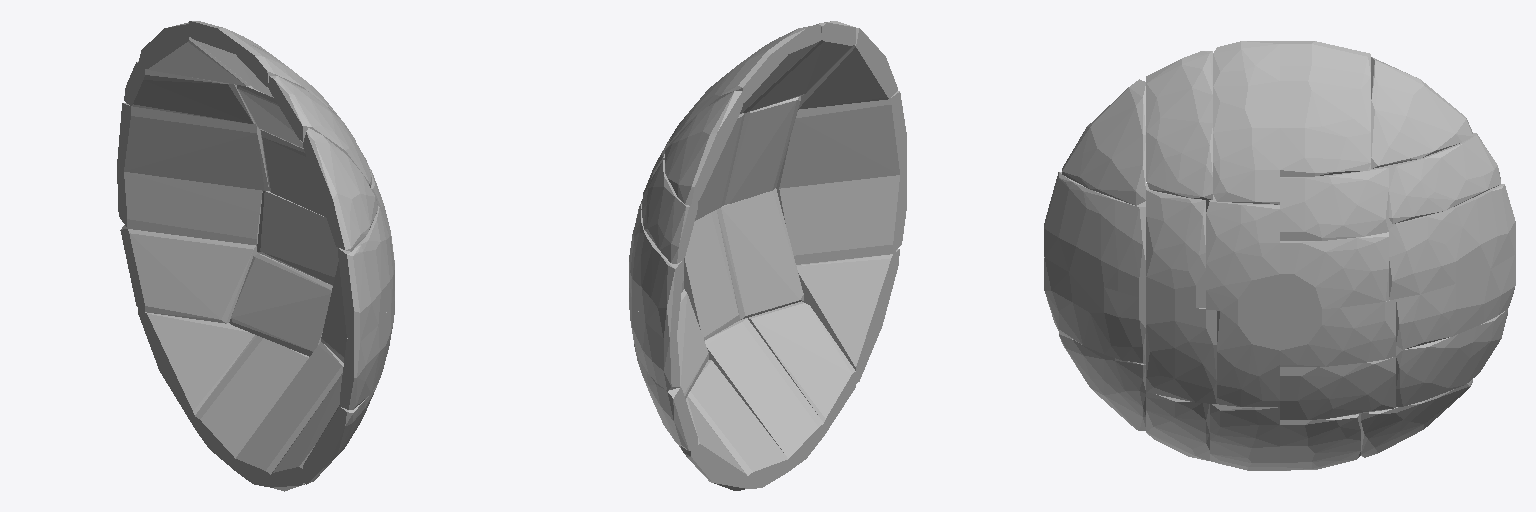
--- Facts derived from the render (not from the file) ---
The picture shows the robot from 3 angles, left to right: view 1: azimuth 30°, elevation 25°; view 2: azimuth 150°, elevation 25°; view 3: azimuth 270°, elevation 25°; orthographic projection.
Model root with 24 links and 23 joints (23 fixed), rooted at link_4845731dbf7522b07492cbf7d8bec255_convex_piece_0, posed every joint at zero.
Visible links, largest first — view 1: link_4845731dbf7522b07492cbf7d8bec255_convex_piece_22, link_4845731dbf7522b07492cbf7d8bec255_convex_piece_18, link_4845731dbf7522b07492cbf7d8bec255_convex_piece_19, link_4845731dbf7522b07492cbf7d8bec255_convex_piece_4, link_4845731dbf7522b07492cbf7d8bec255_convex_piece_5, link_4845731dbf7522b07492cbf7d8bec255_convex_piece_16, link_4845731dbf7522b07492cbf7d8bec255_convex_piece_9, link_4845731dbf7522b07492cbf7d8bec255_convex_piece_3, link_4845731dbf7522b07492cbf7d8bec255_convex_piece_2, link_4845731dbf7522b07492cbf7d8bec255_convex_piece_17, link_4845731dbf7522b07492cbf7d8bec255_convex_piece_23, link_4845731dbf7522b07492cbf7d8bec255_convex_piece_14 (+9 smaller); view 2: link_4845731dbf7522b07492cbf7d8bec255_convex_piece_1, link_4845731dbf7522b07492cbf7d8bec255_convex_piece_2, link_4845731dbf7522b07492cbf7d8bec255_convex_piece_9, link_4845731dbf7522b07492cbf7d8bec255_convex_piece_10, link_4845731dbf7522b07492cbf7d8bec255_convex_piece_0, link_4845731dbf7522b07492cbf7d8bec255_convex_piece_8, link_4845731dbf7522b07492cbf7d8bec255_convex_piece_4, link_4845731dbf7522b07492cbf7d8bec255_convex_piece_11, link_4845731dbf7522b07492cbf7d8bec255_convex_piece_12, link_4845731dbf7522b07492cbf7d8bec255_convex_piece_7, link_4845731dbf7522b07492cbf7d8bec255_convex_piece_22, link_4845731dbf7522b07492cbf7d8bec255_convex_piece_3 (+9 smaller); view 3: link_4845731dbf7522b07492cbf7d8bec255_convex_piece_6, link_4845731dbf7522b07492cbf7d8bec255_convex_piece_15, link_4845731dbf7522b07492cbf7d8bec255_convex_piece_22, link_4845731dbf7522b07492cbf7d8bec255_convex_piece_2, link_4845731dbf7522b07492cbf7d8bec255_convex_piece_14, link_4845731dbf7522b07492cbf7d8bec255_convex_piece_13, link_4845731dbf7522b07492cbf7d8bec255_convex_piece_20, link_4845731dbf7522b07492cbf7d8bec255_convex_piece_7, link_4845731dbf7522b07492cbf7d8bec255_convex_piece_21, link_4845731dbf7522b07492cbf7d8bec255_convex_piece_17, link_4845731dbf7522b07492cbf7d8bec255_convex_piece_10, link_4845731dbf7522b07492cbf7d8bec255_convex_piece_3 (+12 smaller).
Link boxes in pixels (left/top/right/bottom): link_4845731dbf7522b07492cbf7d8bec255_convex_piece_22: left=117, top=103, right=268, bottom=190; link_4845731dbf7522b07492cbf7d8bec255_convex_piece_18: left=120, top=225, right=258, bottom=323; link_4845731dbf7522b07492cbf7d8bec255_convex_piece_19: left=117, top=167, right=262, bottom=245; link_4845731dbf7522b07492cbf7d8bec255_convex_piece_4: left=195, top=336, right=308, bottom=470; link_4845731dbf7522b07492cbf7d8bec255_convex_piece_5: left=138, top=307, right=256, bottom=427; link_4845731dbf7522b07492cbf7d8bec255_convex_piece_16: left=229, top=253, right=332, bottom=356; link_4845731dbf7522b07492cbf7d8bec255_convex_piece_9: left=235, top=342, right=343, bottom=487; link_4845731dbf7522b07492cbf7d8bec255_convex_piece_3: left=303, top=128, right=377, bottom=251; link_4845731dbf7522b07492cbf7d8bec255_convex_piece_2: left=338, top=206, right=394, bottom=342; link_4845731dbf7522b07492cbf7d8bec255_convex_piece_17: left=257, top=191, right=338, bottom=285; link_4845731dbf7522b07492cbf7d8bec255_convex_piece_23: left=124, top=61, right=254, bottom=123; link_4845731dbf7522b07492cbf7d8bec255_convex_piece_14: left=269, top=76, right=371, bottom=187; link_4845731dbf7522b07492cbf7d8bec255_convex_piece_1: left=776, top=170, right=906, bottom=264; link_4845731dbf7522b07492cbf7d8bec255_convex_piece_2: left=776, top=91, right=906, bottom=188; link_4845731dbf7522b07492cbf7d8bec255_convex_piece_9: left=705, top=318, right=823, bottom=470; link_4845731dbf7522b07492cbf7d8bec255_convex_piece_10: left=717, top=188, right=803, bottom=319; link_4845731dbf7522b07492cbf7d8bec255_convex_piece_0: left=796, top=249, right=899, bottom=383; link_4845731dbf7522b07492cbf7d8bec255_convex_piece_8: left=748, top=301, right=855, bottom=435; link_4845731dbf7522b07492cbf7d8bec255_convex_piece_4: left=688, top=360, right=788, bottom=488; link_4845731dbf7522b07492cbf7d8bec255_convex_piece_11: left=684, top=210, right=740, bottom=340; link_4845731dbf7522b07492cbf7d8bec255_convex_piece_12: left=725, top=96, right=800, bottom=204; link_4845731dbf7522b07492cbf7d8bec255_convex_piece_7: left=665, top=91, right=742, bottom=205; link_4845731dbf7522b07492cbf7d8bec255_convex_piece_22: left=629, top=204, right=683, bottom=339; link_4845731dbf7522b07492cbf7d8bec255_convex_piece_3: left=798, top=28, right=897, bottom=109; link_4845731dbf7522b07492cbf7d8bec255_convex_piece_6: left=1280, top=41, right=1370, bottom=176; link_4845731dbf7522b07492cbf7d8bec255_convex_piece_15: left=1213, top=41, right=1279, bottom=204; link_4845731dbf7522b07492cbf7d8bec255_convex_piece_22: left=1389, top=184, right=1515, bottom=299; link_4845731dbf7522b07492cbf7d8bec255_convex_piece_2: left=1044, top=172, right=1145, bottom=297; link_4845731dbf7522b07492cbf7d8bec255_convex_piece_14: left=1146, top=51, right=1212, bottom=199; link_4845731dbf7522b07492cbf7d8bec255_convex_piece_13: left=1206, top=195, right=1279, bottom=311; link_4845731dbf7522b07492cbf7d8bec255_convex_piece_20: left=1280, top=232, right=1388, bottom=308; link_4845731dbf7522b07492cbf7d8bec255_convex_piece_7: left=1371, top=57, right=1472, bottom=168; link_4845731dbf7522b07492cbf7d8bec255_convex_piece_21: left=1280, top=165, right=1388, bottom=240; link_4845731dbf7522b07492cbf7d8bec255_convex_piece_17: left=1280, top=299, right=1395, bottom=366; link_4845731dbf7522b07492cbf7d8bec255_convex_piece_10: left=1146, top=299, right=1216, bottom=403; link_4845731dbf7522b07492cbf7d8bec255_convex_piece_3: left=1062, top=79, right=1145, bottom=205.
Bounding box of the posed robot: 0.0132 × 0.0453 × 0.0453 m (x, y, z).
Meshes: 24 distinct files referenced, 24 mesh visuals loaded (24 OBJ).

URDF robot description (root):
<robot name="root">
  <link name="link_4845731dbf7522b07492cbf7d8bec255_convex_piece_0">
    <inertial>
      <origin rpy="0 0 0" xyz="0 0 0"/>
      <mass value="5.84E-08"/>
      <inertia ixx="2.31E-11" ixy="3.52E-12" ixz="2.63E-12" iyy="9.28E-12" iyz="1.06E-11" izz="1.58E-11"/>
    </inertial>
    <visual>
      <origin rpy="0 0 0" xyz="0 0 0"/>
      <geometry>
        <mesh filename="4845731dbf7522b07492cbf7d8bec255_convex_piece_0.obj" scale="1.0000E+00"/>
      </geometry>
      <material name="">
        <color rgba="7.50E-01 7.50E-01 7.50E-01 1"/>
      </material>
    </visual>
    <collision>
      <origin rpy="0 0 0" xyz="0 0 0"/>
      <geometry>
        <mesh filename="4845731dbf7522b07492cbf7d8bec255_convex_piece_0.obj" scale="1.0000E+00"/>
      </geometry>
    </collision>
  </link>
  <link name="link_4845731dbf7522b07492cbf7d8bec255_convex_piece_1">
    <inertial>
      <origin rpy="0 0 0" xyz="0 0 0"/>
      <mass value="7.40E-08"/>
      <inertia ixx="2.45E-11" ixy="3.02E-12" ixz="5.98E-13" iyy="2.17E-12" iyz="4.90E-12" izz="2.39E-11"/>
    </inertial>
    <visual>
      <origin rpy="0 0 0" xyz="0 0 0"/>
      <geometry>
        <mesh filename="4845731dbf7522b07492cbf7d8bec255_convex_piece_1.obj" scale="1.0000E+00"/>
      </geometry>
      <material name="">
        <color rgba="7.50E-01 7.50E-01 7.50E-01 1"/>
      </material>
    </visual>
    <collision>
      <origin rpy="0 0 0" xyz="0 0 0"/>
      <geometry>
        <mesh filename="4845731dbf7522b07492cbf7d8bec255_convex_piece_1.obj" scale="1.0000E+00"/>
      </geometry>
    </collision>
  </link>
  <joint name="link_4845731dbf7522b07492cbf7d8bec255_convex_piece_1_joint" type="fixed">
    <origin rpy="0 0 0" xyz="0 0 0"/>
    <parent link="link_4845731dbf7522b07492cbf7d8bec255_convex_piece_0"/>
    <child link="link_4845731dbf7522b07492cbf7d8bec255_convex_piece_1"/>
  </joint>
  <link name="link_4845731dbf7522b07492cbf7d8bec255_convex_piece_2">
    <inertial>
      <origin rpy="0 0 0" xyz="0 0 0"/>
      <mass value="8.35E-08"/>
      <inertia ixx="2.80E-11" ixy="3.51E-12" ixz="-7.99E-13" iyy="2.89E-12" iyz="-6.17E-12" izz="2.68E-11"/>
    </inertial>
    <visual>
      <origin rpy="0 0 0" xyz="0 0 0"/>
      <geometry>
        <mesh filename="4845731dbf7522b07492cbf7d8bec255_convex_piece_2.obj" scale="1.0000E+00"/>
      </geometry>
      <material name="">
        <color rgba="7.50E-01 7.50E-01 7.50E-01 1"/>
      </material>
    </visual>
    <collision>
      <origin rpy="0 0 0" xyz="0 0 0"/>
      <geometry>
        <mesh filename="4845731dbf7522b07492cbf7d8bec255_convex_piece_2.obj" scale="1.0000E+00"/>
      </geometry>
    </collision>
  </link>
  <joint name="link_4845731dbf7522b07492cbf7d8bec255_convex_piece_2_joint" type="fixed">
    <origin rpy="0 0 0" xyz="0 0 0"/>
    <parent link="link_4845731dbf7522b07492cbf7d8bec255_convex_piece_1"/>
    <child link="link_4845731dbf7522b07492cbf7d8bec255_convex_piece_2"/>
  </joint>
  <link name="link_4845731dbf7522b07492cbf7d8bec255_convex_piece_3">
    <inertial>
      <origin rpy="0 0 0" xyz="0 0 0"/>
      <mass value="4.83E-08"/>
      <inertia ixx="1.95E-11" ixy="3.01E-12" ixz="-2.38E-12" iyy="8.39E-12" iyz="-9.19E-12" izz="1.29E-11"/>
    </inertial>
    <visual>
      <origin rpy="0 0 0" xyz="0 0 0"/>
      <geometry>
        <mesh filename="4845731dbf7522b07492cbf7d8bec255_convex_piece_3.obj" scale="1.0000E+00"/>
      </geometry>
      <material name="">
        <color rgba="7.50E-01 7.50E-01 7.50E-01 1"/>
      </material>
    </visual>
    <collision>
      <origin rpy="0 0 0" xyz="0 0 0"/>
      <geometry>
        <mesh filename="4845731dbf7522b07492cbf7d8bec255_convex_piece_3.obj" scale="1.0000E+00"/>
      </geometry>
    </collision>
  </link>
  <joint name="link_4845731dbf7522b07492cbf7d8bec255_convex_piece_3_joint" type="fixed">
    <origin rpy="0 0 0" xyz="0 0 0"/>
    <parent link="link_4845731dbf7522b07492cbf7d8bec255_convex_piece_2"/>
    <child link="link_4845731dbf7522b07492cbf7d8bec255_convex_piece_3"/>
  </joint>
  <link name="link_4845731dbf7522b07492cbf7d8bec255_convex_piece_4">
    <inertial>
      <origin rpy="0 0 0" xyz="0 0 0"/>
      <mass value="7.40E-08"/>
      <inertia ixx="2.46E-11" ixy="-5.97E-13" ixz="3.02E-12" iyy="2.39E-11" iyz="-4.90E-12" izz="2.17E-12"/>
    </inertial>
    <visual>
      <origin rpy="0 0 0" xyz="0 0 0"/>
      <geometry>
        <mesh filename="4845731dbf7522b07492cbf7d8bec255_convex_piece_4.obj" scale="1.0000E+00"/>
      </geometry>
      <material name="">
        <color rgba="7.50E-01 7.50E-01 7.50E-01 1"/>
      </material>
    </visual>
    <collision>
      <origin rpy="0 0 0" xyz="0 0 0"/>
      <geometry>
        <mesh filename="4845731dbf7522b07492cbf7d8bec255_convex_piece_4.obj" scale="1.0000E+00"/>
      </geometry>
    </collision>
  </link>
  <joint name="link_4845731dbf7522b07492cbf7d8bec255_convex_piece_4_joint" type="fixed">
    <origin rpy="0 0 0" xyz="0 0 0"/>
    <parent link="link_4845731dbf7522b07492cbf7d8bec255_convex_piece_3"/>
    <child link="link_4845731dbf7522b07492cbf7d8bec255_convex_piece_4"/>
  </joint>
  <link name="link_4845731dbf7522b07492cbf7d8bec255_convex_piece_5">
    <inertial>
      <origin rpy="0 0 0" xyz="0 0 0"/>
      <mass value="5.83E-08"/>
      <inertia ixx="2.31E-11" ixy="-2.63E-12" ixz="3.51E-12" iyy="1.58E-11" iyz="-1.06E-11" izz="9.28E-12"/>
    </inertial>
    <visual>
      <origin rpy="0 0 0" xyz="0 0 0"/>
      <geometry>
        <mesh filename="4845731dbf7522b07492cbf7d8bec255_convex_piece_5.obj" scale="1.0000E+00"/>
      </geometry>
      <material name="">
        <color rgba="7.50E-01 7.50E-01 7.50E-01 1"/>
      </material>
    </visual>
    <collision>
      <origin rpy="0 0 0" xyz="0 0 0"/>
      <geometry>
        <mesh filename="4845731dbf7522b07492cbf7d8bec255_convex_piece_5.obj" scale="1.0000E+00"/>
      </geometry>
    </collision>
  </link>
  <joint name="link_4845731dbf7522b07492cbf7d8bec255_convex_piece_5_joint" type="fixed">
    <origin rpy="0 0 0" xyz="0 0 0"/>
    <parent link="link_4845731dbf7522b07492cbf7d8bec255_convex_piece_4"/>
    <child link="link_4845731dbf7522b07492cbf7d8bec255_convex_piece_5"/>
  </joint>
  <link name="link_4845731dbf7522b07492cbf7d8bec255_convex_piece_6">
    <inertial>
      <origin rpy="0 0 0" xyz="0 0 0"/>
      <mass value="8.35E-08"/>
      <inertia ixx="2.80E-11" ixy="-7.98E-13" ixz="-3.51E-12" iyy="2.68E-11" iyz="6.17E-12" izz="2.89E-12"/>
    </inertial>
    <visual>
      <origin rpy="0 0 0" xyz="0 0 0"/>
      <geometry>
        <mesh filename="4845731dbf7522b07492cbf7d8bec255_convex_piece_6.obj" scale="1.0000E+00"/>
      </geometry>
      <material name="">
        <color rgba="7.50E-01 7.50E-01 7.50E-01 1"/>
      </material>
    </visual>
    <collision>
      <origin rpy="0 0 0" xyz="0 0 0"/>
      <geometry>
        <mesh filename="4845731dbf7522b07492cbf7d8bec255_convex_piece_6.obj" scale="1.0000E+00"/>
      </geometry>
    </collision>
  </link>
  <joint name="link_4845731dbf7522b07492cbf7d8bec255_convex_piece_6_joint" type="fixed">
    <origin rpy="0 0 0" xyz="0 0 0"/>
    <parent link="link_4845731dbf7522b07492cbf7d8bec255_convex_piece_5"/>
    <child link="link_4845731dbf7522b07492cbf7d8bec255_convex_piece_6"/>
  </joint>
  <link name="link_4845731dbf7522b07492cbf7d8bec255_convex_piece_7">
    <inertial>
      <origin rpy="0 0 0" xyz="0 0 0"/>
      <mass value="4.83E-08"/>
      <inertia ixx="1.95E-11" ixy="-2.38E-12" ixz="-3.01E-12" iyy="1.29E-11" iyz="9.18E-12" izz="8.39E-12"/>
    </inertial>
    <visual>
      <origin rpy="0 0 0" xyz="0 0 0"/>
      <geometry>
        <mesh filename="4845731dbf7522b07492cbf7d8bec255_convex_piece_7.obj" scale="1.0000E+00"/>
      </geometry>
      <material name="">
        <color rgba="7.50E-01 7.50E-01 7.50E-01 1"/>
      </material>
    </visual>
    <collision>
      <origin rpy="0 0 0" xyz="0 0 0"/>
      <geometry>
        <mesh filename="4845731dbf7522b07492cbf7d8bec255_convex_piece_7.obj" scale="1.0000E+00"/>
      </geometry>
    </collision>
  </link>
  <joint name="link_4845731dbf7522b07492cbf7d8bec255_convex_piece_7_joint" type="fixed">
    <origin rpy="0 0 0" xyz="0 0 0"/>
    <parent link="link_4845731dbf7522b07492cbf7d8bec255_convex_piece_6"/>
    <child link="link_4845731dbf7522b07492cbf7d8bec255_convex_piece_7"/>
  </joint>
  <link name="link_4845731dbf7522b07492cbf7d8bec255_convex_piece_8">
    <inertial>
      <origin rpy="0 0 0" xyz="0 0 0"/>
      <mass value="5.82E-08"/>
      <inertia ixx="2.03E-11" ixy="1.38E-12" ixz="2.48E-12" iyy="1.54E-11" iyz="8.75E-12" izz="6.18E-12"/>
    </inertial>
    <visual>
      <origin rpy="0 0 0" xyz="0 0 0"/>
      <geometry>
        <mesh filename="4845731dbf7522b07492cbf7d8bec255_convex_piece_8.obj" scale="1.0000E+00"/>
      </geometry>
      <material name="">
        <color rgba="7.50E-01 7.50E-01 7.50E-01 1"/>
      </material>
    </visual>
    <collision>
      <origin rpy="0 0 0" xyz="0 0 0"/>
      <geometry>
        <mesh filename="4845731dbf7522b07492cbf7d8bec255_convex_piece_8.obj" scale="1.0000E+00"/>
      </geometry>
    </collision>
  </link>
  <joint name="link_4845731dbf7522b07492cbf7d8bec255_convex_piece_8_joint" type="fixed">
    <origin rpy="0 0 0" xyz="0 0 0"/>
    <parent link="link_4845731dbf7522b07492cbf7d8bec255_convex_piece_7"/>
    <child link="link_4845731dbf7522b07492cbf7d8bec255_convex_piece_8"/>
  </joint>
  <link name="link_4845731dbf7522b07492cbf7d8bec255_convex_piece_9">
    <inertial>
      <origin rpy="0 0 0" xyz="0 0 0"/>
      <mass value="7.84E-08"/>
      <inertia ixx="2.40E-11" ixy="3.94E-13" ixz="2.46E-12" iyy="2.36E-11" iyz="4.39E-12" izz="1.90E-12"/>
    </inertial>
    <visual>
      <origin rpy="0 0 0" xyz="0 0 0"/>
      <geometry>
        <mesh filename="4845731dbf7522b07492cbf7d8bec255_convex_piece_9.obj" scale="1.0000E+00"/>
      </geometry>
      <material name="">
        <color rgba="7.50E-01 7.50E-01 7.50E-01 1"/>
      </material>
    </visual>
    <collision>
      <origin rpy="0 0 0" xyz="0 0 0"/>
      <geometry>
        <mesh filename="4845731dbf7522b07492cbf7d8bec255_convex_piece_9.obj" scale="1.0000E+00"/>
      </geometry>
    </collision>
  </link>
  <joint name="link_4845731dbf7522b07492cbf7d8bec255_convex_piece_9_joint" type="fixed">
    <origin rpy="0 0 0" xyz="0 0 0"/>
    <parent link="link_4845731dbf7522b07492cbf7d8bec255_convex_piece_8"/>
    <child link="link_4845731dbf7522b07492cbf7d8bec255_convex_piece_9"/>
  </joint>
  <link name="link_4845731dbf7522b07492cbf7d8bec255_convex_piece_10">
    <inertial>
      <origin rpy="0 0 0" xyz="0 0 0"/>
      <mass value="6.44E-08"/>
      <inertia ixx="8.83E-12" ixy="-1.69E-12" ixz="-9.24E-13" iyy="3.38E-12" iyz="3.53E-12" izz="6.75E-12"/>
    </inertial>
    <visual>
      <origin rpy="0 0 0" xyz="0 0 0"/>
      <geometry>
        <mesh filename="4845731dbf7522b07492cbf7d8bec255_convex_piece_10.obj" scale="1.0000E+00"/>
      </geometry>
      <material name="">
        <color rgba="7.50E-01 7.50E-01 7.50E-01 1"/>
      </material>
    </visual>
    <collision>
      <origin rpy="0 0 0" xyz="0 0 0"/>
      <geometry>
        <mesh filename="4845731dbf7522b07492cbf7d8bec255_convex_piece_10.obj" scale="1.0000E+00"/>
      </geometry>
    </collision>
  </link>
  <joint name="link_4845731dbf7522b07492cbf7d8bec255_convex_piece_10_joint" type="fixed">
    <origin rpy="0 0 0" xyz="0 0 0"/>
    <parent link="link_4845731dbf7522b07492cbf7d8bec255_convex_piece_9"/>
    <child link="link_4845731dbf7522b07492cbf7d8bec255_convex_piece_10"/>
  </joint>
  <link name="link_4845731dbf7522b07492cbf7d8bec255_convex_piece_11">
    <inertial>
      <origin rpy="0 0 0" xyz="0 0 0"/>
      <mass value="4.88E-08"/>
      <inertia ixx="2.71E-12" ixy="-6.95E-13" ixz="-1.23E-12" iyy="3.22E-12" iyz="8.74E-13" izz="1.73E-12"/>
    </inertial>
    <visual>
      <origin rpy="0 0 0" xyz="0 0 0"/>
      <geometry>
        <mesh filename="4845731dbf7522b07492cbf7d8bec255_convex_piece_11.obj" scale="1.0000E+00"/>
      </geometry>
      <material name="">
        <color rgba="7.50E-01 7.50E-01 7.50E-01 1"/>
      </material>
    </visual>
    <collision>
      <origin rpy="0 0 0" xyz="0 0 0"/>
      <geometry>
        <mesh filename="4845731dbf7522b07492cbf7d8bec255_convex_piece_11.obj" scale="1.0000E+00"/>
      </geometry>
    </collision>
  </link>
  <joint name="link_4845731dbf7522b07492cbf7d8bec255_convex_piece_11_joint" type="fixed">
    <origin rpy="0 0 0" xyz="0 0 0"/>
    <parent link="link_4845731dbf7522b07492cbf7d8bec255_convex_piece_10"/>
    <child link="link_4845731dbf7522b07492cbf7d8bec255_convex_piece_11"/>
  </joint>
  <link name="link_4845731dbf7522b07492cbf7d8bec255_convex_piece_12">
    <inertial>
      <origin rpy="0 0 0" xyz="0 0 0"/>
      <mass value="4.95E-08"/>
      <inertia ixx="6.97E-12" ixy="-1.37E-12" ixz="6.70E-13" iyy="2.33E-12" iyz="-2.68E-12" izz="5.59E-12"/>
    </inertial>
    <visual>
      <origin rpy="0 0 0" xyz="0 0 0"/>
      <geometry>
        <mesh filename="4845731dbf7522b07492cbf7d8bec255_convex_piece_12.obj" scale="1.0000E+00"/>
      </geometry>
      <material name="">
        <color rgba="7.50E-01 7.50E-01 7.50E-01 1"/>
      </material>
    </visual>
    <collision>
      <origin rpy="0 0 0" xyz="0 0 0"/>
      <geometry>
        <mesh filename="4845731dbf7522b07492cbf7d8bec255_convex_piece_12.obj" scale="1.0000E+00"/>
      </geometry>
    </collision>
  </link>
  <joint name="link_4845731dbf7522b07492cbf7d8bec255_convex_piece_12_joint" type="fixed">
    <origin rpy="0 0 0" xyz="0 0 0"/>
    <parent link="link_4845731dbf7522b07492cbf7d8bec255_convex_piece_11"/>
    <child link="link_4845731dbf7522b07492cbf7d8bec255_convex_piece_12"/>
  </joint>
  <link name="link_4845731dbf7522b07492cbf7d8bec255_convex_piece_13">
    <inertial>
      <origin rpy="0 0 0" xyz="0 0 0"/>
      <mass value="5.38E-08"/>
      <inertia ixx="2.95E-12" ixy="-8.92E-13" ixz="1.28E-12" iyy="3.27E-12" iyz="-1.05E-12" izz="2.16E-12"/>
    </inertial>
    <visual>
      <origin rpy="0 0 0" xyz="0 0 0"/>
      <geometry>
        <mesh filename="4845731dbf7522b07492cbf7d8bec255_convex_piece_13.obj" scale="1.0000E+00"/>
      </geometry>
      <material name="">
        <color rgba="7.50E-01 7.50E-01 7.50E-01 1"/>
      </material>
    </visual>
    <collision>
      <origin rpy="0 0 0" xyz="0 0 0"/>
      <geometry>
        <mesh filename="4845731dbf7522b07492cbf7d8bec255_convex_piece_13.obj" scale="1.0000E+00"/>
      </geometry>
    </collision>
  </link>
  <joint name="link_4845731dbf7522b07492cbf7d8bec255_convex_piece_13_joint" type="fixed">
    <origin rpy="0 0 0" xyz="0 0 0"/>
    <parent link="link_4845731dbf7522b07492cbf7d8bec255_convex_piece_12"/>
    <child link="link_4845731dbf7522b07492cbf7d8bec255_convex_piece_13"/>
  </joint>
  <link name="link_4845731dbf7522b07492cbf7d8bec255_convex_piece_14">
    <inertial>
      <origin rpy="0 0 0" xyz="0 0 0"/>
      <mass value="6.82E-08"/>
      <inertia ixx="2.30E-11" ixy="1.45E-12" ixz="-2.67E-12" iyy="1.74E-11" iyz="-9.88E-12" izz="7.01E-12"/>
    </inertial>
    <visual>
      <origin rpy="0 0 0" xyz="0 0 0"/>
      <geometry>
        <mesh filename="4845731dbf7522b07492cbf7d8bec255_convex_piece_14.obj" scale="1.0000E+00"/>
      </geometry>
      <material name="">
        <color rgba="7.50E-01 7.50E-01 7.50E-01 1"/>
      </material>
    </visual>
    <collision>
      <origin rpy="0 0 0" xyz="0 0 0"/>
      <geometry>
        <mesh filename="4845731dbf7522b07492cbf7d8bec255_convex_piece_14.obj" scale="1.0000E+00"/>
      </geometry>
    </collision>
  </link>
  <joint name="link_4845731dbf7522b07492cbf7d8bec255_convex_piece_14_joint" type="fixed">
    <origin rpy="0 0 0" xyz="0 0 0"/>
    <parent link="link_4845731dbf7522b07492cbf7d8bec255_convex_piece_13"/>
    <child link="link_4845731dbf7522b07492cbf7d8bec255_convex_piece_14"/>
  </joint>
  <link name="link_4845731dbf7522b07492cbf7d8bec255_convex_piece_15">
    <inertial>
      <origin rpy="0 0 0" xyz="0 0 0"/>
      <mass value="8.11E-08"/>
      <inertia ixx="2.39E-11" ixy="3.28E-13" ixz="-2.25E-12" iyy="2.36E-11" iyz="-4.25E-12" izz="1.84E-12"/>
    </inertial>
    <visual>
      <origin rpy="0 0 0" xyz="0 0 0"/>
      <geometry>
        <mesh filename="4845731dbf7522b07492cbf7d8bec255_convex_piece_15.obj" scale="1.0000E+00"/>
      </geometry>
      <material name="">
        <color rgba="7.50E-01 7.50E-01 7.50E-01 1"/>
      </material>
    </visual>
    <collision>
      <origin rpy="0 0 0" xyz="0 0 0"/>
      <geometry>
        <mesh filename="4845731dbf7522b07492cbf7d8bec255_convex_piece_15.obj" scale="1.0000E+00"/>
      </geometry>
    </collision>
  </link>
  <joint name="link_4845731dbf7522b07492cbf7d8bec255_convex_piece_15_joint" type="fixed">
    <origin rpy="0 0 0" xyz="0 0 0"/>
    <parent link="link_4845731dbf7522b07492cbf7d8bec255_convex_piece_14"/>
    <child link="link_4845731dbf7522b07492cbf7d8bec255_convex_piece_15"/>
  </joint>
  <link name="link_4845731dbf7522b07492cbf7d8bec255_convex_piece_16">
    <inertial>
      <origin rpy="0 0 0" xyz="0 0 0"/>
      <mass value="6.44E-08"/>
      <inertia ixx="8.83E-12" ixy="9.22E-13" ixz="-1.69E-12" iyy="6.75E-12" iyz="-3.53E-12" izz="3.38E-12"/>
    </inertial>
    <visual>
      <origin rpy="0 0 0" xyz="0 0 0"/>
      <geometry>
        <mesh filename="4845731dbf7522b07492cbf7d8bec255_convex_piece_16.obj" scale="1.0000E+00"/>
      </geometry>
      <material name="">
        <color rgba="7.50E-01 7.50E-01 7.50E-01 1"/>
      </material>
    </visual>
    <collision>
      <origin rpy="0 0 0" xyz="0 0 0"/>
      <geometry>
        <mesh filename="4845731dbf7522b07492cbf7d8bec255_convex_piece_16.obj" scale="1.0000E+00"/>
      </geometry>
    </collision>
  </link>
  <joint name="link_4845731dbf7522b07492cbf7d8bec255_convex_piece_16_joint" type="fixed">
    <origin rpy="0 0 0" xyz="0 0 0"/>
    <parent link="link_4845731dbf7522b07492cbf7d8bec255_convex_piece_15"/>
    <child link="link_4845731dbf7522b07492cbf7d8bec255_convex_piece_16"/>
  </joint>
  <link name="link_4845731dbf7522b07492cbf7d8bec255_convex_piece_17">
    <inertial>
      <origin rpy="0 0 0" xyz="0 0 0"/>
      <mass value="5.18E-08"/>
      <inertia ixx="2.84E-12" ixy="1.30E-12" ixz="-6.97E-13" iyy="1.81E-12" iyz="-8.77E-13" izz="3.41E-12"/>
    </inertial>
    <visual>
      <origin rpy="0 0 0" xyz="0 0 0"/>
      <geometry>
        <mesh filename="4845731dbf7522b07492cbf7d8bec255_convex_piece_17.obj" scale="1.0000E+00"/>
      </geometry>
      <material name="">
        <color rgba="7.50E-01 7.50E-01 7.50E-01 1"/>
      </material>
    </visual>
    <collision>
      <origin rpy="0 0 0" xyz="0 0 0"/>
      <geometry>
        <mesh filename="4845731dbf7522b07492cbf7d8bec255_convex_piece_17.obj" scale="1.0000E+00"/>
      </geometry>
    </collision>
  </link>
  <joint name="link_4845731dbf7522b07492cbf7d8bec255_convex_piece_17_joint" type="fixed">
    <origin rpy="0 0 0" xyz="0 0 0"/>
    <parent link="link_4845731dbf7522b07492cbf7d8bec255_convex_piece_16"/>
    <child link="link_4845731dbf7522b07492cbf7d8bec255_convex_piece_17"/>
  </joint>
  <link name="link_4845731dbf7522b07492cbf7d8bec255_convex_piece_18">
    <inertial>
      <origin rpy="0 0 0" xyz="0 0 0"/>
      <mass value="7.51E-08"/>
      <inertia ixx="2.57E-11" ixy="-3.10E-12" ixz="1.59E-12" iyy="7.06E-12" iyz="-1.05E-11" izz="2.02E-11"/>
    </inertial>
    <visual>
      <origin rpy="0 0 0" xyz="0 0 0"/>
      <geometry>
        <mesh filename="4845731dbf7522b07492cbf7d8bec255_convex_piece_18.obj" scale="1.0000E+00"/>
      </geometry>
      <material name="">
        <color rgba="7.50E-01 7.50E-01 7.50E-01 1"/>
      </material>
    </visual>
    <collision>
      <origin rpy="0 0 0" xyz="0 0 0"/>
      <geometry>
        <mesh filename="4845731dbf7522b07492cbf7d8bec255_convex_piece_18.obj" scale="1.0000E+00"/>
      </geometry>
    </collision>
  </link>
  <joint name="link_4845731dbf7522b07492cbf7d8bec255_convex_piece_18_joint" type="fixed">
    <origin rpy="0 0 0" xyz="0 0 0"/>
    <parent link="link_4845731dbf7522b07492cbf7d8bec255_convex_piece_17"/>
    <child link="link_4845731dbf7522b07492cbf7d8bec255_convex_piece_18"/>
  </joint>
  <link name="link_4845731dbf7522b07492cbf7d8bec255_convex_piece_19">
    <inertial>
      <origin rpy="0 0 0" xyz="0 0 0"/>
      <mass value="6.60E-08"/>
      <inertia ixx="2.00E-11" ixy="-2.01E-12" ixz="2.36E-13" iyy="1.21E-12" iyz="-2.81E-12" izz="2.00E-11"/>
    </inertial>
    <visual>
      <origin rpy="0 0 0" xyz="0 0 0"/>
      <geometry>
        <mesh filename="4845731dbf7522b07492cbf7d8bec255_convex_piece_19.obj" scale="1.0000E+00"/>
      </geometry>
      <material name="">
        <color rgba="7.50E-01 7.50E-01 7.50E-01 1"/>
      </material>
    </visual>
    <collision>
      <origin rpy="0 0 0" xyz="0 0 0"/>
      <geometry>
        <mesh filename="4845731dbf7522b07492cbf7d8bec255_convex_piece_19.obj" scale="1.0000E+00"/>
      </geometry>
    </collision>
  </link>
  <joint name="link_4845731dbf7522b07492cbf7d8bec255_convex_piece_19_joint" type="fixed">
    <origin rpy="0 0 0" xyz="0 0 0"/>
    <parent link="link_4845731dbf7522b07492cbf7d8bec255_convex_piece_18"/>
    <child link="link_4845731dbf7522b07492cbf7d8bec255_convex_piece_19"/>
  </joint>
  <link name="link_4845731dbf7522b07492cbf7d8bec255_convex_piece_20">
    <inertial>
      <origin rpy="0 0 0" xyz="0 0 0"/>
      <mass value="5.09E-08"/>
      <inertia ixx="2.84E-12" ixy="1.21E-12" ixz="8.83E-13" iyy="2.08E-12" iyz="1.04E-12" izz="3.09E-12"/>
    </inertial>
    <visual>
      <origin rpy="0 0 0" xyz="0 0 0"/>
      <geometry>
        <mesh filename="4845731dbf7522b07492cbf7d8bec255_convex_piece_20.obj" scale="1.0000E+00"/>
      </geometry>
      <material name="">
        <color rgba="7.50E-01 7.50E-01 7.50E-01 1"/>
      </material>
    </visual>
    <collision>
      <origin rpy="0 0 0" xyz="0 0 0"/>
      <geometry>
        <mesh filename="4845731dbf7522b07492cbf7d8bec255_convex_piece_20.obj" scale="1.0000E+00"/>
      </geometry>
    </collision>
  </link>
  <joint name="link_4845731dbf7522b07492cbf7d8bec255_convex_piece_20_joint" type="fixed">
    <origin rpy="0 0 0" xyz="0 0 0"/>
    <parent link="link_4845731dbf7522b07492cbf7d8bec255_convex_piece_19"/>
    <child link="link_4845731dbf7522b07492cbf7d8bec255_convex_piece_20"/>
  </joint>
  <link name="link_4845731dbf7522b07492cbf7d8bec255_convex_piece_21">
    <inertial>
      <origin rpy="0 0 0" xyz="0 0 0"/>
      <mass value="4.95E-08"/>
      <inertia ixx="6.97E-12" ixy="6.68E-13" ixz="1.37E-12" iyy="5.59E-12" iyz="2.68E-12" izz="2.33E-12"/>
    </inertial>
    <visual>
      <origin rpy="0 0 0" xyz="0 0 0"/>
      <geometry>
        <mesh filename="4845731dbf7522b07492cbf7d8bec255_convex_piece_21.obj" scale="1.0000E+00"/>
      </geometry>
      <material name="">
        <color rgba="7.50E-01 7.50E-01 7.50E-01 1"/>
      </material>
    </visual>
    <collision>
      <origin rpy="0 0 0" xyz="0 0 0"/>
      <geometry>
        <mesh filename="4845731dbf7522b07492cbf7d8bec255_convex_piece_21.obj" scale="1.0000E+00"/>
      </geometry>
    </collision>
  </link>
  <joint name="link_4845731dbf7522b07492cbf7d8bec255_convex_piece_21_joint" type="fixed">
    <origin rpy="0 0 0" xyz="0 0 0"/>
    <parent link="link_4845731dbf7522b07492cbf7d8bec255_convex_piece_20"/>
    <child link="link_4845731dbf7522b07492cbf7d8bec255_convex_piece_21"/>
  </joint>
  <link name="link_4845731dbf7522b07492cbf7d8bec255_convex_piece_22">
    <inertial>
      <origin rpy="0 0 0" xyz="0 0 0"/>
      <mass value="9.33E-08"/>
      <inertia ixx="2.78E-11" ixy="-2.69E-12" ixz="-5.13E-13" iyy="2.75E-12" iyz="6.07E-12" izz="2.68E-11"/>
    </inertial>
    <visual>
      <origin rpy="0 0 0" xyz="0 0 0"/>
      <geometry>
        <mesh filename="4845731dbf7522b07492cbf7d8bec255_convex_piece_22.obj" scale="1.0000E+00"/>
      </geometry>
      <material name="">
        <color rgba="7.50E-01 7.50E-01 7.50E-01 1"/>
      </material>
    </visual>
    <collision>
      <origin rpy="0 0 0" xyz="0 0 0"/>
      <geometry>
        <mesh filename="4845731dbf7522b07492cbf7d8bec255_convex_piece_22.obj" scale="1.0000E+00"/>
      </geometry>
    </collision>
  </link>
  <joint name="link_4845731dbf7522b07492cbf7d8bec255_convex_piece_22_joint" type="fixed">
    <origin rpy="0 0 0" xyz="0 0 0"/>
    <parent link="link_4845731dbf7522b07492cbf7d8bec255_convex_piece_21"/>
    <child link="link_4845731dbf7522b07492cbf7d8bec255_convex_piece_22"/>
  </joint>
  <link name="link_4845731dbf7522b07492cbf7d8bec255_convex_piece_23">
    <inertial>
      <origin rpy="0 0 0" xyz="0 0 0"/>
      <mass value="5.05E-08"/>
      <inertia ixx="1.75E-11" ixy="-2.06E-12" ixz="-1.22E-12" iyy="5.89E-12" iyz="7.84E-12" izz="1.27E-11"/>
    </inertial>
    <visual>
      <origin rpy="0 0 0" xyz="0 0 0"/>
      <geometry>
        <mesh filename="4845731dbf7522b07492cbf7d8bec255_convex_piece_23.obj" scale="1.0000E+00"/>
      </geometry>
      <material name="">
        <color rgba="7.50E-01 7.50E-01 7.50E-01 1"/>
      </material>
    </visual>
    <collision>
      <origin rpy="0 0 0" xyz="0 0 0"/>
      <geometry>
        <mesh filename="4845731dbf7522b07492cbf7d8bec255_convex_piece_23.obj" scale="1.0000E+00"/>
      </geometry>
    </collision>
  </link>
  <joint name="link_4845731dbf7522b07492cbf7d8bec255_convex_piece_23_joint" type="fixed">
    <origin rpy="0 0 0" xyz="0 0 0"/>
    <parent link="link_4845731dbf7522b07492cbf7d8bec255_convex_piece_22"/>
    <child link="link_4845731dbf7522b07492cbf7d8bec255_convex_piece_23"/>
  </joint>
</robot>
